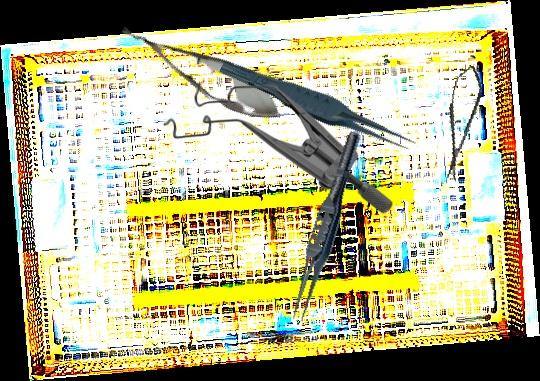Micro Scissor: (111, 9, 293, 135), (433, 62, 488, 182)
Speculum: (161, 79, 393, 216)
Tissue Forceps: (218, 45, 418, 168), (284, 127, 367, 328)
